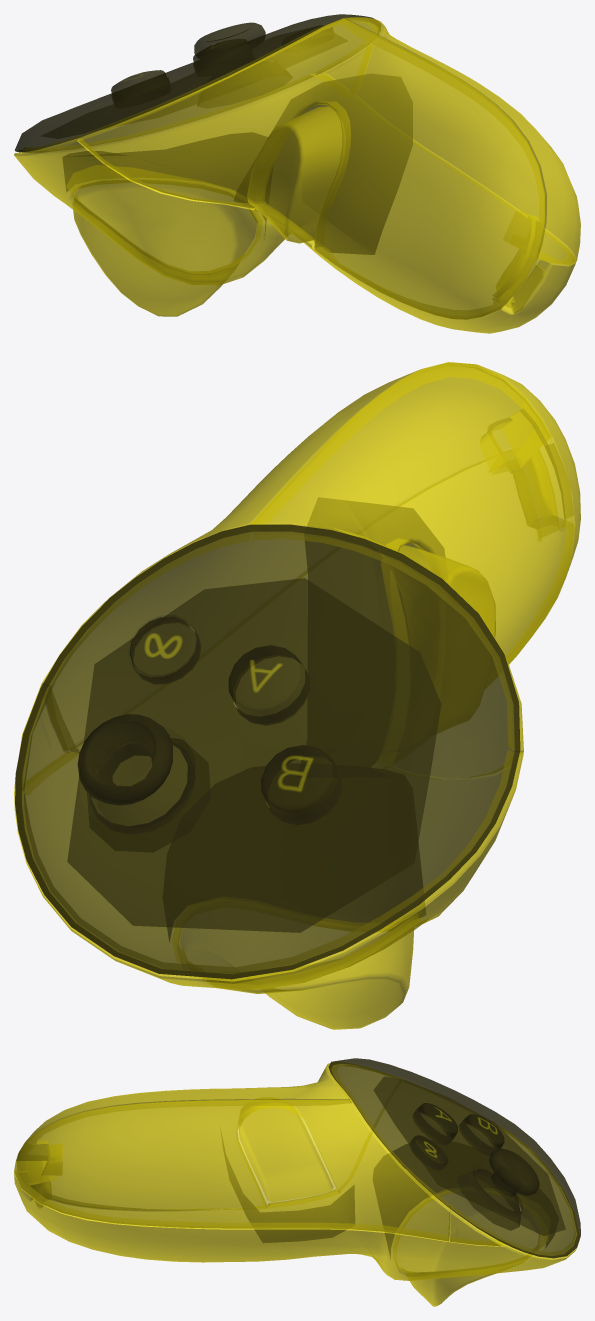
The model's file is quest3_ctrl_btn_b.glb.
The picture shows the model from 3 angles, top to bottom: view 1: azimuth 30°, elevation 25°; view 2: azimuth 150°, elevation 25°; view 3: azimuth 270°, elevation 25°; orthographic projection. The views are drawn at different scales.
Parts seen in each view (by area): view 1: controller_mesh, trigger, squeeze, thumbstick, b_button, a_button; view 2: controller_mesh, trigger, thumbstick, b_button, a_button, squeeze; view 3: controller_mesh, trigger, squeeze, thumbstick, a_button, b_button.
Part boxes in pixels (x1,y1,x2,y2): controller_mesh: (14,14,580,333); trigger: (66,165,262,316); squeeze: (247,106,342,243); thumbstick: (194,22,292,108); b_button: (111,70,165,103); a_button: (193,38,252,63); controller_mesh: (14,362,580,990); trigger: (172,912,421,1029); thumbstick: (77,714,201,833); b_button: (261,745,341,824); a_button: (228,645,309,725); squeeze: (399,545,495,637); controller_mesh: (14,1058,580,1280); trigger: (393,1189,548,1306); squeeze: (239,1107,332,1201); thumbstick: (468,1148,539,1230); a_button: (413,1103,457,1144); b_button: (459,1114,504,1155).
Bounding box in the file's own units: 0.0677 × 0.0604 × 0.1232.
Materials: 1 (1 with a texture image).
